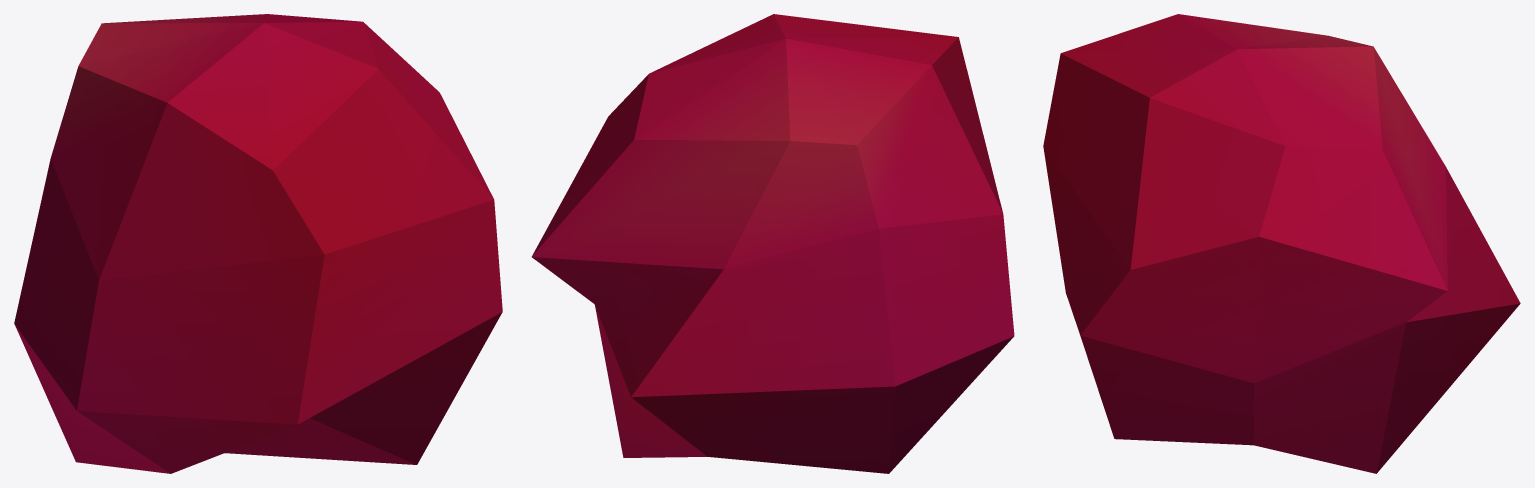
File: Rock_Desert_Boulder_01.glb
The picture shows the model from 3 angles, left to right: view 1: azimuth 30°, elevation 25°; view 2: azimuth 150°, elevation 25°; view 3: azimuth 270°, elevation 25°; orthographic projection. The views are drawn at different scales.
Parts seen in each view (by area): view 1: Rock_Desert_Boulder_01; view 2: Rock_Desert_Boulder_01; view 3: Rock_Desert_Boulder_01.
Part boxes in pixels (x1=…): Rock_Desert_Boulder_01: x1=14, y1=14, x2=502, y2=473; Rock_Desert_Boulder_01: x1=531, y1=14, x2=1014, y2=473; Rock_Desert_Boulder_01: x1=1043, y1=14, x2=1520, y2=473.
Bounding box in the file's own units: 0.9518 × 0.9117 × 1.04.
